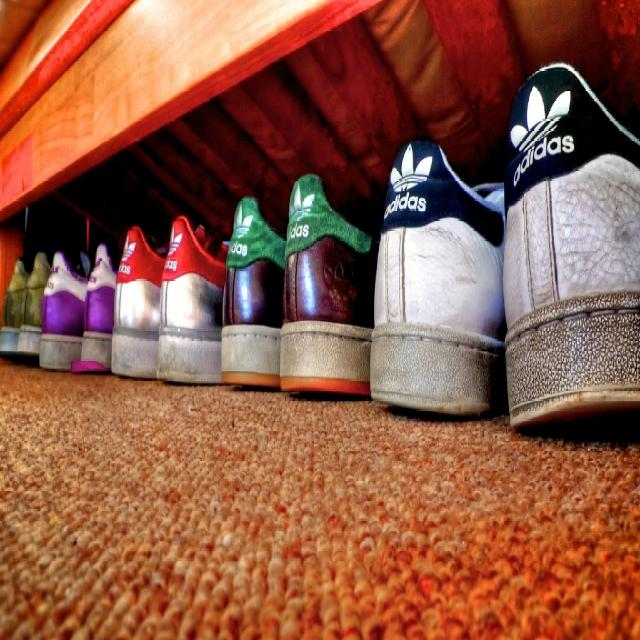adidas: (511, 81, 579, 190), (384, 140, 438, 222), (228, 204, 256, 260), (290, 183, 315, 243), (117, 230, 139, 280), (164, 222, 185, 272)
